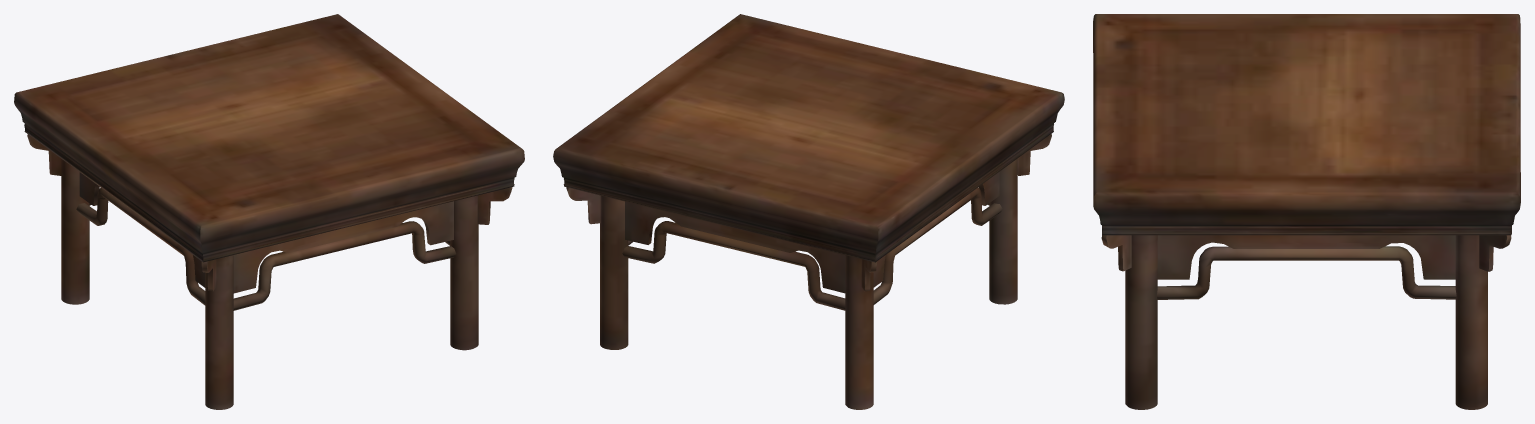
File: chinese_tea_table.glb
3 renders of one model, left to right at view 1: azimuth 30°, elevation 25°; view 2: azimuth 150°, elevation 25°; view 3: azimuth 270°, elevation 25°, orthographic. The views are drawn at different scales.
Visible parts, largest first — view 1: chinese_tea_table; view 2: chinese_tea_table; view 3: chinese_tea_table.
Boxes of the visible parts, x1,y1,x2,y2 form: chinese_tea_table: (14, 14, 524, 409); chinese_tea_table: (553, 14, 1064, 409); chinese_tea_table: (1093, 14, 1520, 409).
Size of the model in its own units: 0.8413 by 0.4986 by 0.8356.
1 material, 1 textured.
